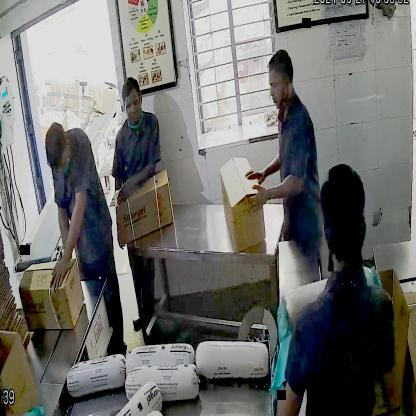no_goggles: (118, 93, 146, 116), (264, 74, 289, 98)
